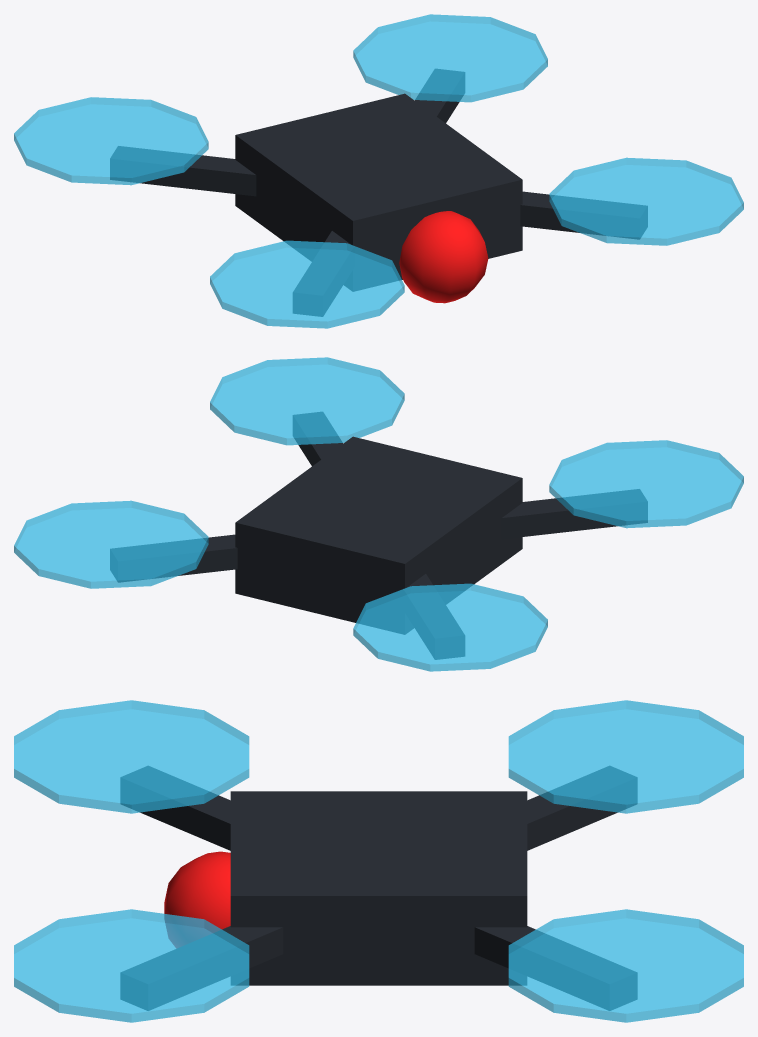
Rendered from cyber_recon_drone.obj.
3 views of the same model, one above another, from view 1: azimuth 30°, elevation 25°; view 2: azimuth 150°, elevation 25°; view 3: azimuth 270°, elevation 25° (orthographic). The views are drawn at different scales.
Visible parts, largest first — view 1: CyberReconDrone; view 2: CyberReconDrone; view 3: CyberReconDrone.
Boxes of the visible parts, x1,y1,x2,y2 form: CyberReconDrone: [14, 14, 743, 328]; CyberReconDrone: [14, 357, 743, 671]; CyberReconDrone: [14, 700, 743, 1022].
Bounding box in the file's own units: 1.5 × 0.27 × 1.48.
